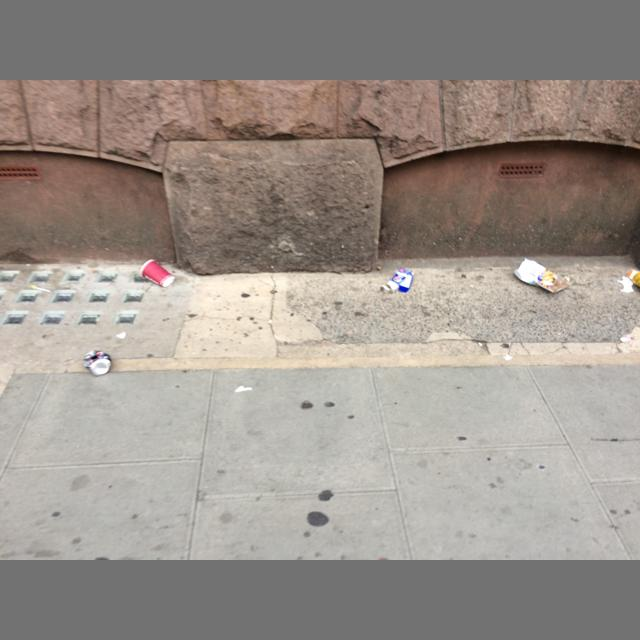litter: (513, 258, 568, 293), (141, 259, 175, 287), (83, 350, 111, 375), (387, 268, 413, 293), (617, 276, 634, 293), (626, 269, 640, 287)
